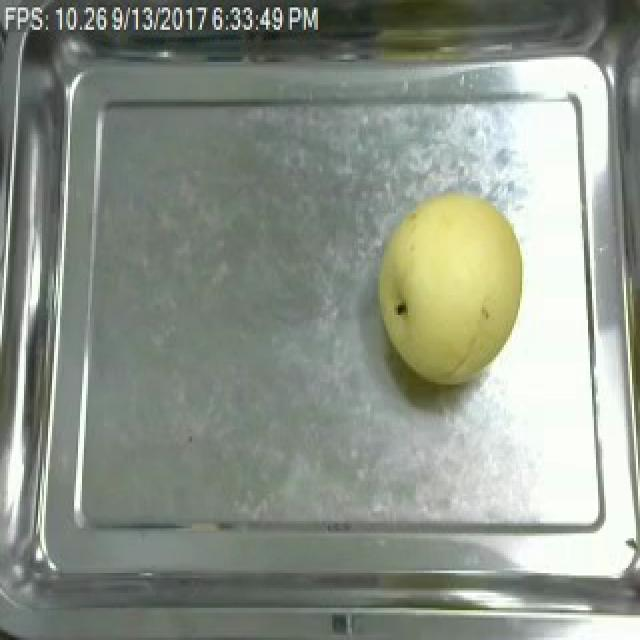Fruit: (366, 181, 534, 392)
